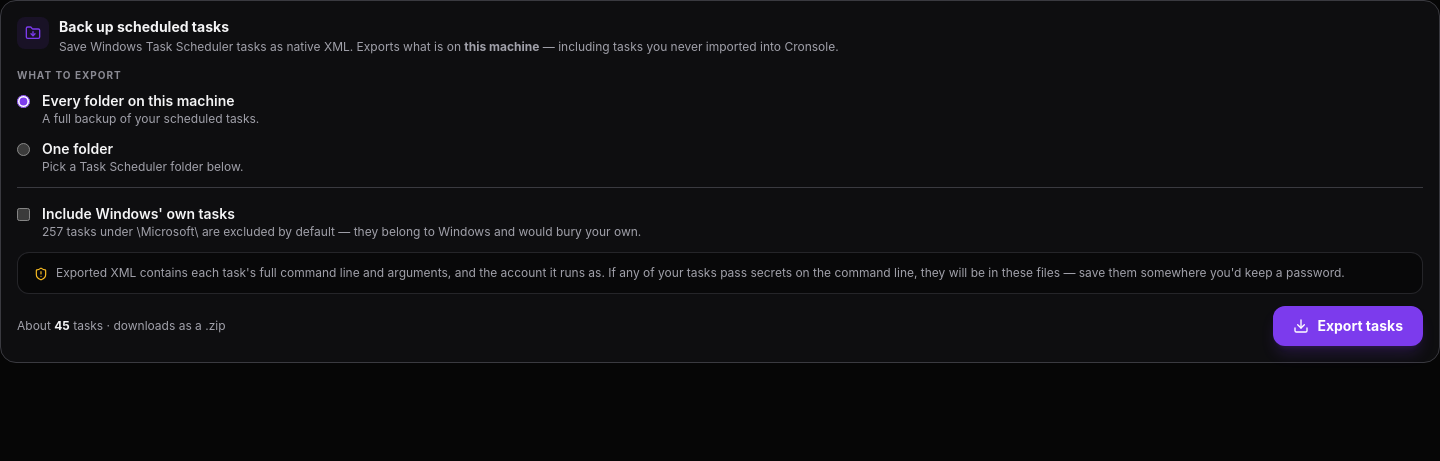
Test case: BulkExportTool › scopes the count to the chosen folder, subfolders included
Expected: the text "45" is shown, 54,318 -> 70,332
Click the radio button labelled "One folder Pick a Task Scheduler folder below.": coordinates (24, 149) 17,142 -> 30,156
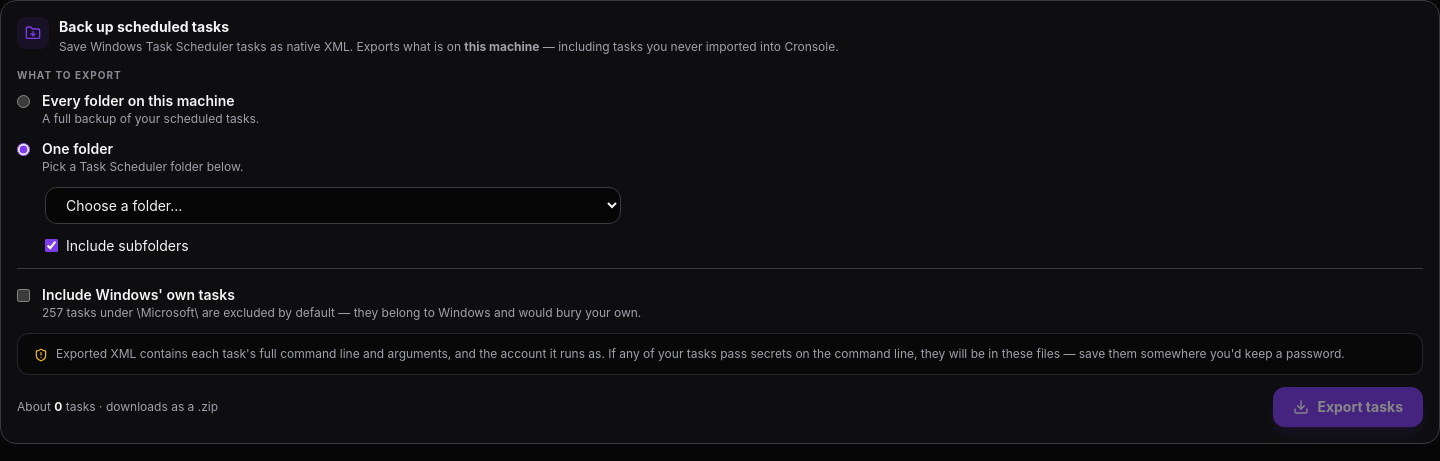
Select "\\Work — 5 tasks" in the dropdown named "folder to export": coordinates (333, 205) 45,186 -> 621,224
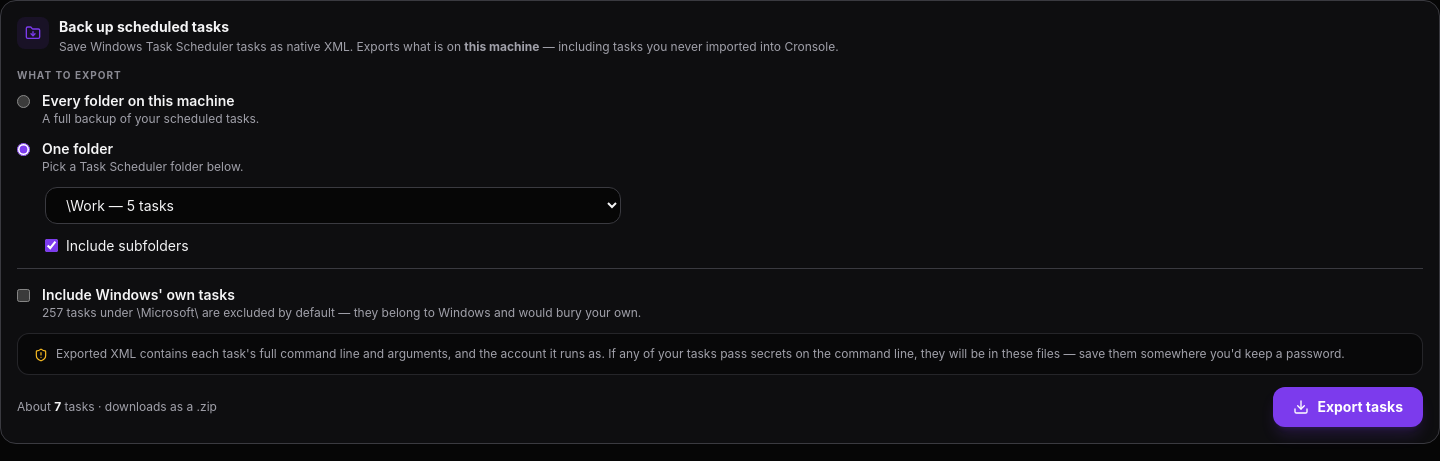
Expected: the text "7" is shown, 54,398 -> 61,414
